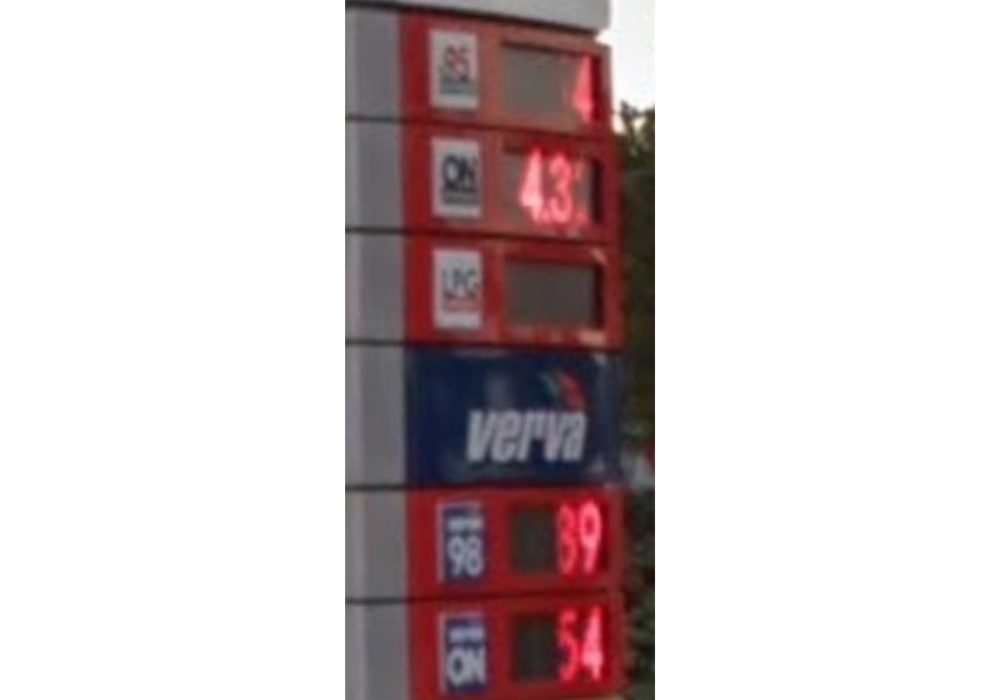LPG: (427, 247, 485, 330)
ON: (427, 139, 484, 215), (438, 613, 490, 693)
PB95: (427, 27, 480, 108)
PB98: (439, 498, 488, 587)
